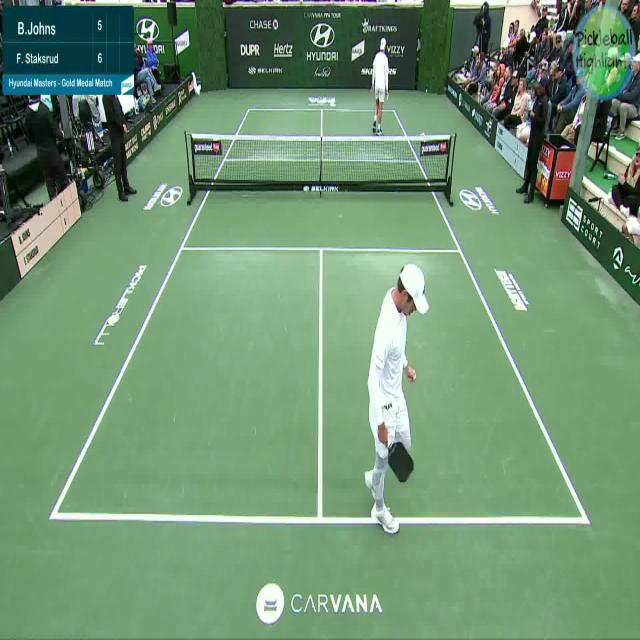ball: (425, 88, 428, 93)
